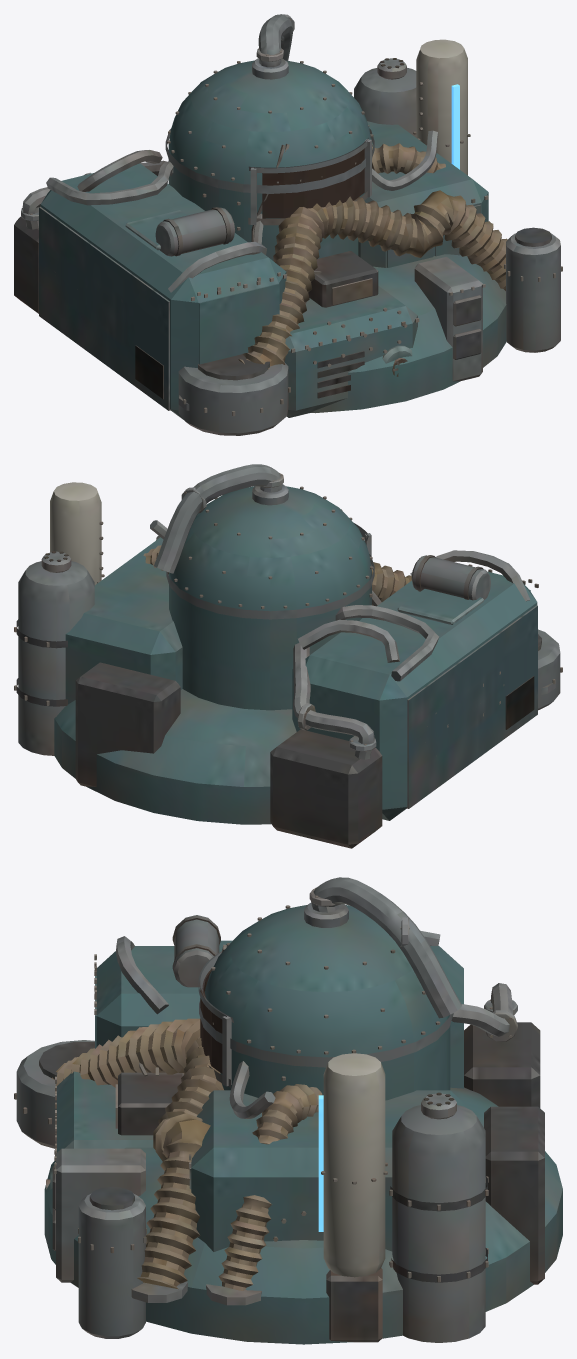
The model's file is cryogenic-plant.glb.
The picture shows the model from 3 angles, top to bottom: view 1: azimuth 30°, elevation 25°; view 2: azimuth 150°, elevation 25°; view 3: azimuth 270°, elevation 25°; orthographic projection. The views are drawn at different scales.
Parts seen in each view (by area): view 1: body, anim_slide_cryo_drawers, anim_slide_cryo_hatch, anim_glow_cryo_gauge; view 2: body, anim_slide_cryo_hatch; view 3: body, anim_glow_cryo_gauge.
Boxes of the visible parts, <box> form: body: <box>14,14,562,435</box>; anim_slide_cryo_drawers: <box>453,295,481,359</box>; anim_slide_cryo_hatch: <box>125,210,186,250</box>; anim_glow_cryo_gauge: <box>451,84,459,169</box>; body: <box>14,464,562,848</box>; anim_slide_cryo_hatch: <box>397,589,483,624</box>; body: <box>14,877,562,1344</box>; anim_glow_cryo_gauge: <box>318,1095,323,1231</box>.
Size of the model in its own units: 4.93 by 3.41 by 4.87.
Materials: 2 (2 with a texture image).
